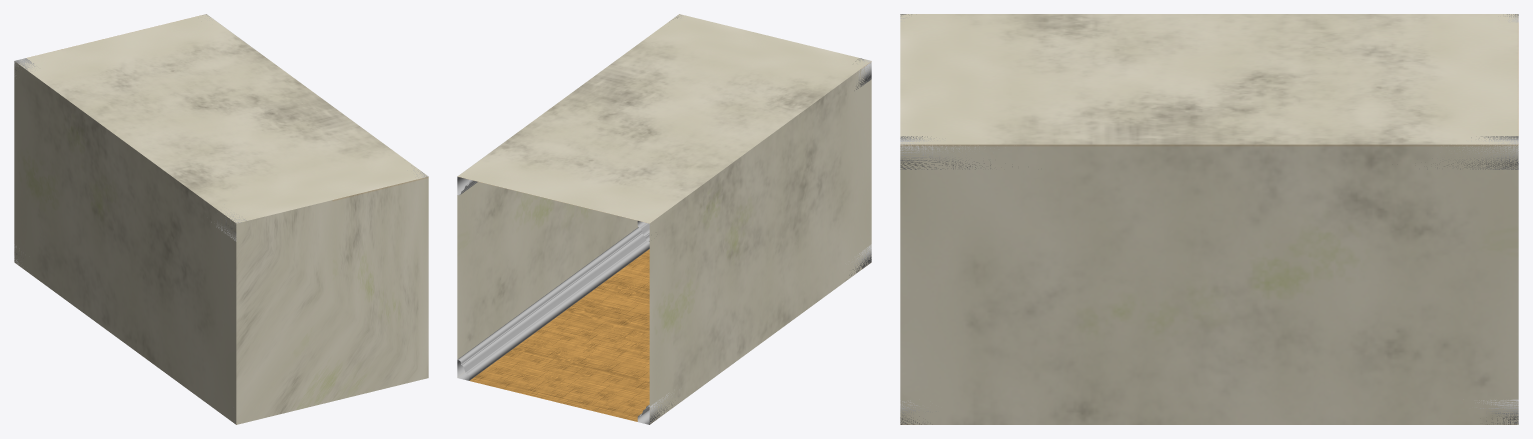
The model's file is Hallway_HallBasic_EndFront.fbx.
3 views of the same model, side by side, from view 1: azimuth 30°, elevation 25°; view 2: azimuth 150°, elevation 25°; view 3: azimuth 270°, elevation 25° (orthographic). The views are drawn at different scales.
Visible parts, largest first — view 1: Hallway_HallBasic_EndFront; view 2: Hallway_HallBasic_EndFront; view 3: Hallway_HallBasic_EndFront.
Part boxes in pixels (left/top/right/bottom): Hallway_HallBasic_EndFront: left=14, top=14, right=428, bottom=424; Hallway_HallBasic_EndFront: left=457, top=14, right=871, bottom=424; Hallway_HallBasic_EndFront: left=900, top=14, right=1518, bottom=424.
Size of the model in its own units: 748 by 748 by 1496.
Materials: 1 (1 with a texture image).
